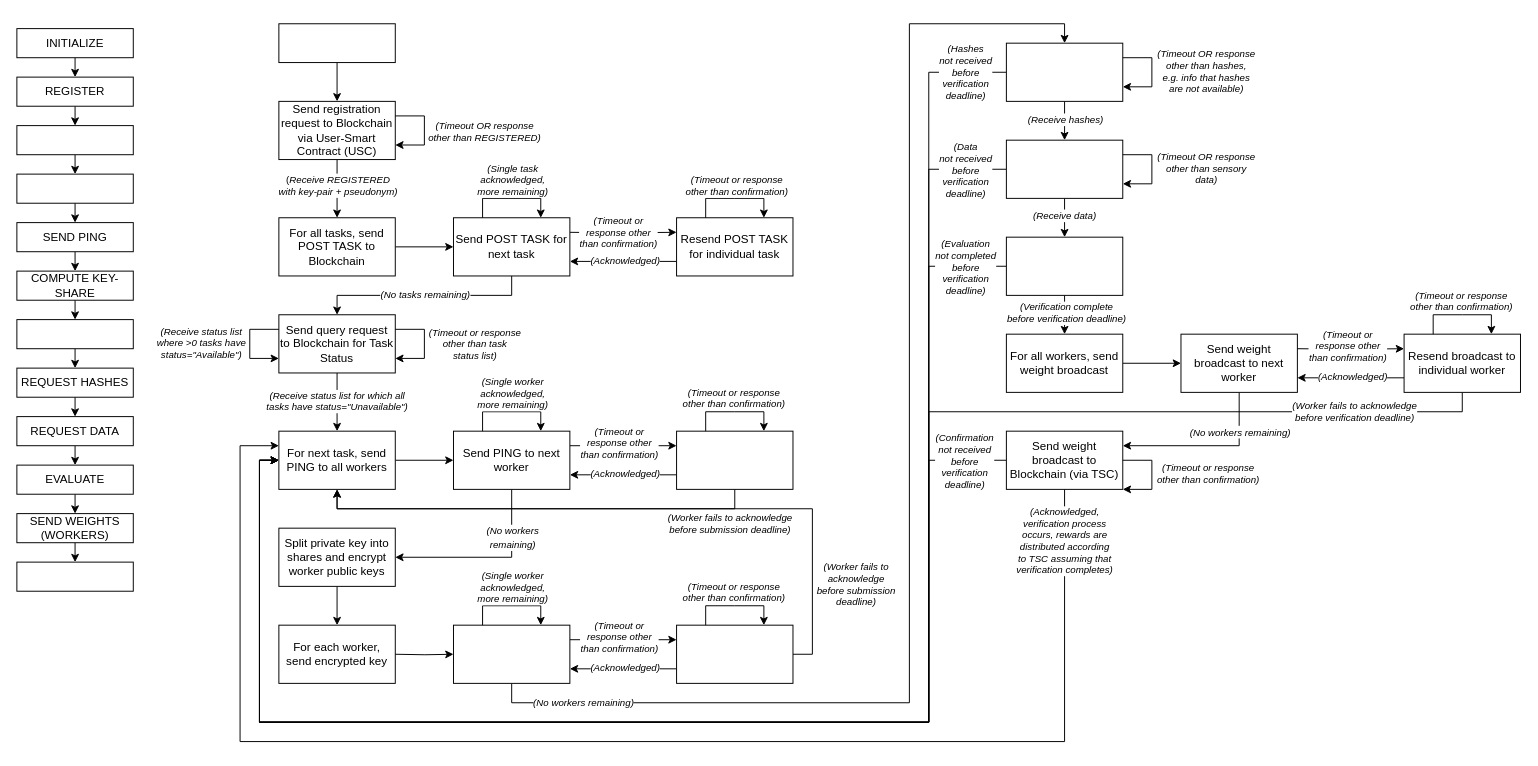
The diagram is 1538 pixels wide and 766 high, and some of its shapes have lost their labels. Here are the shapes that lost their labels. From the top down, the centre of each, then its label:
At (336,43): "Initialize local variables and setup".
At (1064,71): "Send hash request to Blockchain (via TSC)".
At (74,140): "POST TASK".
At (74,188): "QUERY TASK STATUS".
At (1064,168): "Send sensory data request to Storage (for set of all hashes)".
At (1064,265): "Evaluation Process and Weight Update (Can be generalized)".
At (74,334): "SEND KEY-SHARE".
At (734,459): "Resend PING to individual worker".
At (74,576): "SEND WEIGHTS (BLOCKCHAIN)".
At (511,653): "Send encrypted key to next worker".
At (734,653): "Resend key to individual worker".
